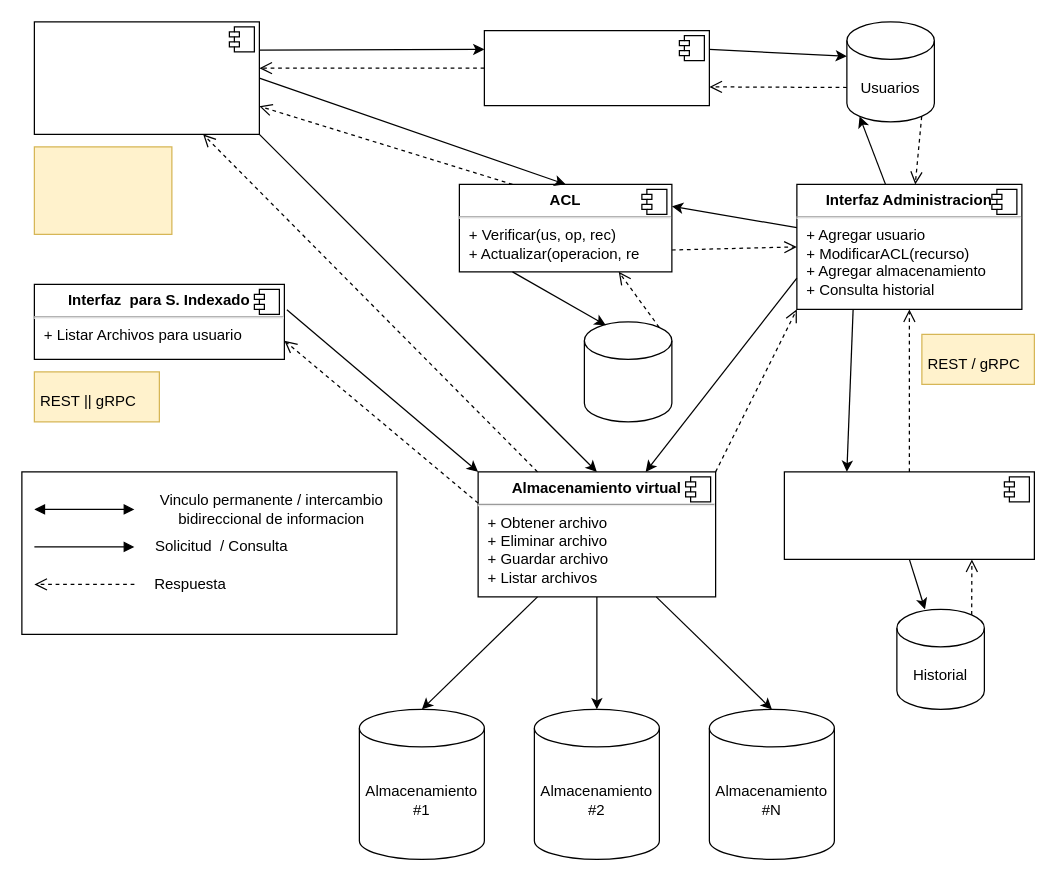
This 1056x881 diagram has some shape labels left out. The centre of each missing label's shape, as x and y in pixels:
"- AS2 - SFTP + PK-Auth" goes at (x=102, y=190).
"Interfaz para clientes + Descargar archivo + Guardar archivo + Borrar archivo" goes at (x=146, y=77).
"Manejo de sesiones + Autenticar" goes at (x=596, y=67).
"Permisos" goes at (x=627, y=371).
"Registro de operaciones + Asentar operacion + Consultar historial" goes at (x=908, y=515).
